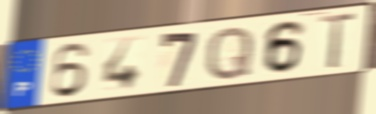4: (102, 35, 143, 92)
6: (48, 41, 91, 100), (262, 19, 306, 75)
7: (160, 31, 198, 89)
Q: (203, 24, 256, 83)
T: (317, 11, 359, 71)
